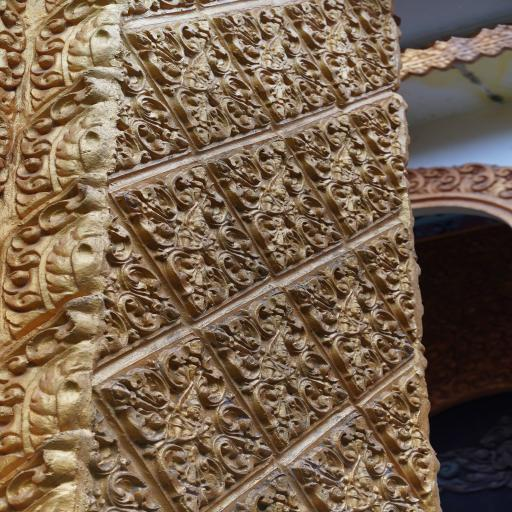la: (0, 311, 114, 512), (10, 180, 107, 336), (15, 86, 109, 206), (32, 0, 122, 94), (150, 333, 236, 403), (203, 388, 273, 473), (150, 441, 229, 511), (116, 166, 181, 249), (165, 156, 239, 227), (105, 362, 170, 441), (164, 244, 234, 314), (243, 382, 319, 446), (118, 261, 183, 334), (250, 286, 315, 348), (246, 130, 312, 190), (128, 93, 189, 157), (207, 140, 264, 208), (326, 335, 390, 395), (365, 389, 419, 459), (199, 310, 259, 372), (174, 90, 238, 148), (247, 210, 311, 268), (297, 347, 349, 416), (323, 250, 386, 306), (281, 270, 339, 330), (334, 405, 384, 473), (177, 16, 236, 72), (218, 220, 268, 286), (290, 436, 340, 502), (222, 72, 276, 133), (318, 108, 378, 162), (368, 308, 420, 370), (320, 179, 379, 232), (128, 21, 181, 79), (250, 68, 306, 122), (235, 467, 301, 512), (288, 55, 338, 113), (358, 239, 408, 297), (210, 7, 262, 62), (298, 186, 346, 245), (254, 4, 307, 52), (360, 158, 401, 220), (320, 52, 370, 98), (357, 97, 398, 153), (356, 38, 401, 88), (286, 120, 327, 174), (317, 0, 371, 38), (380, 470, 425, 512), (392, 293, 430, 341), (288, 0, 324, 43), (383, 153, 415, 194), (388, 88, 416, 134)
than: (161, 380, 224, 446), (173, 198, 226, 263), (253, 331, 306, 388), (177, 50, 226, 108), (330, 289, 380, 344), (335, 456, 383, 512), (322, 143, 370, 197), (259, 172, 304, 228), (258, 32, 300, 86), (320, 20, 360, 74)
